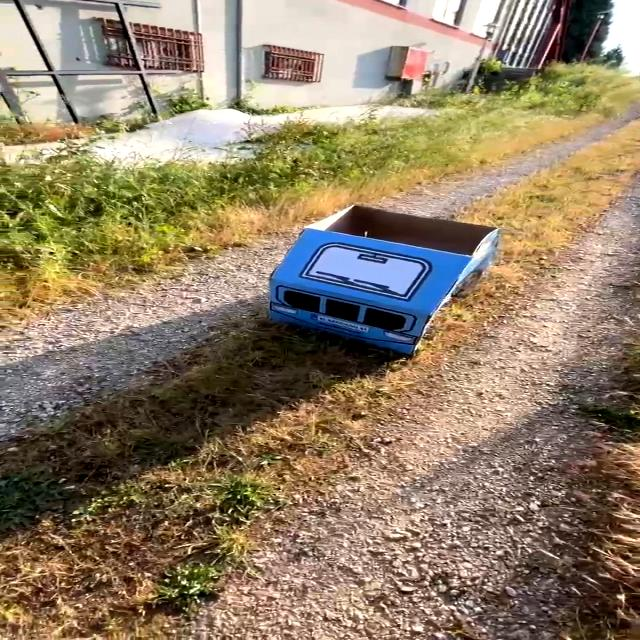blue_car: (212, 179, 540, 382)
